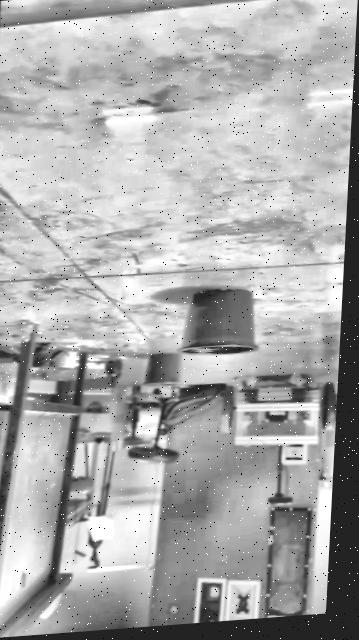pot: (179, 286, 260, 358), (143, 351, 183, 387)
